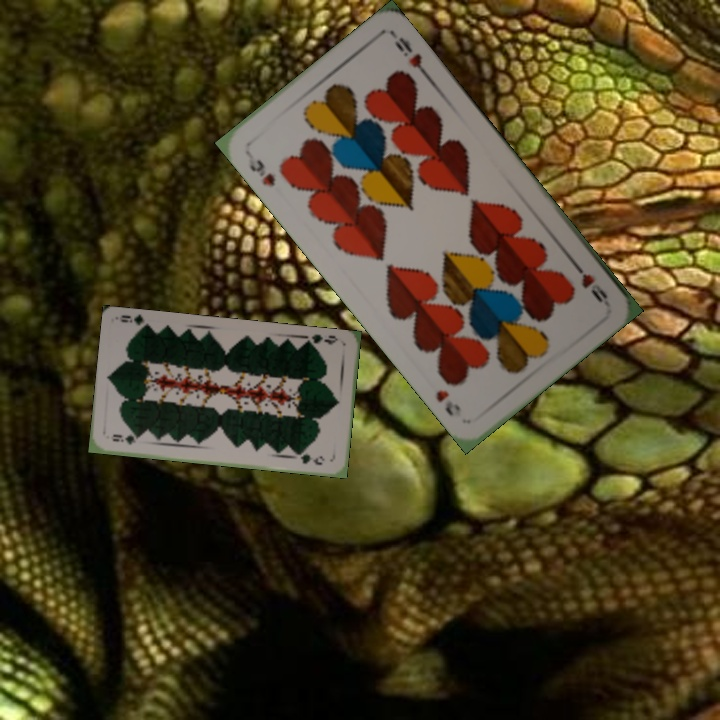G9: (303, 330, 341, 349), (108, 430, 143, 447)
H9: (568, 257, 611, 306), (242, 149, 278, 189)
